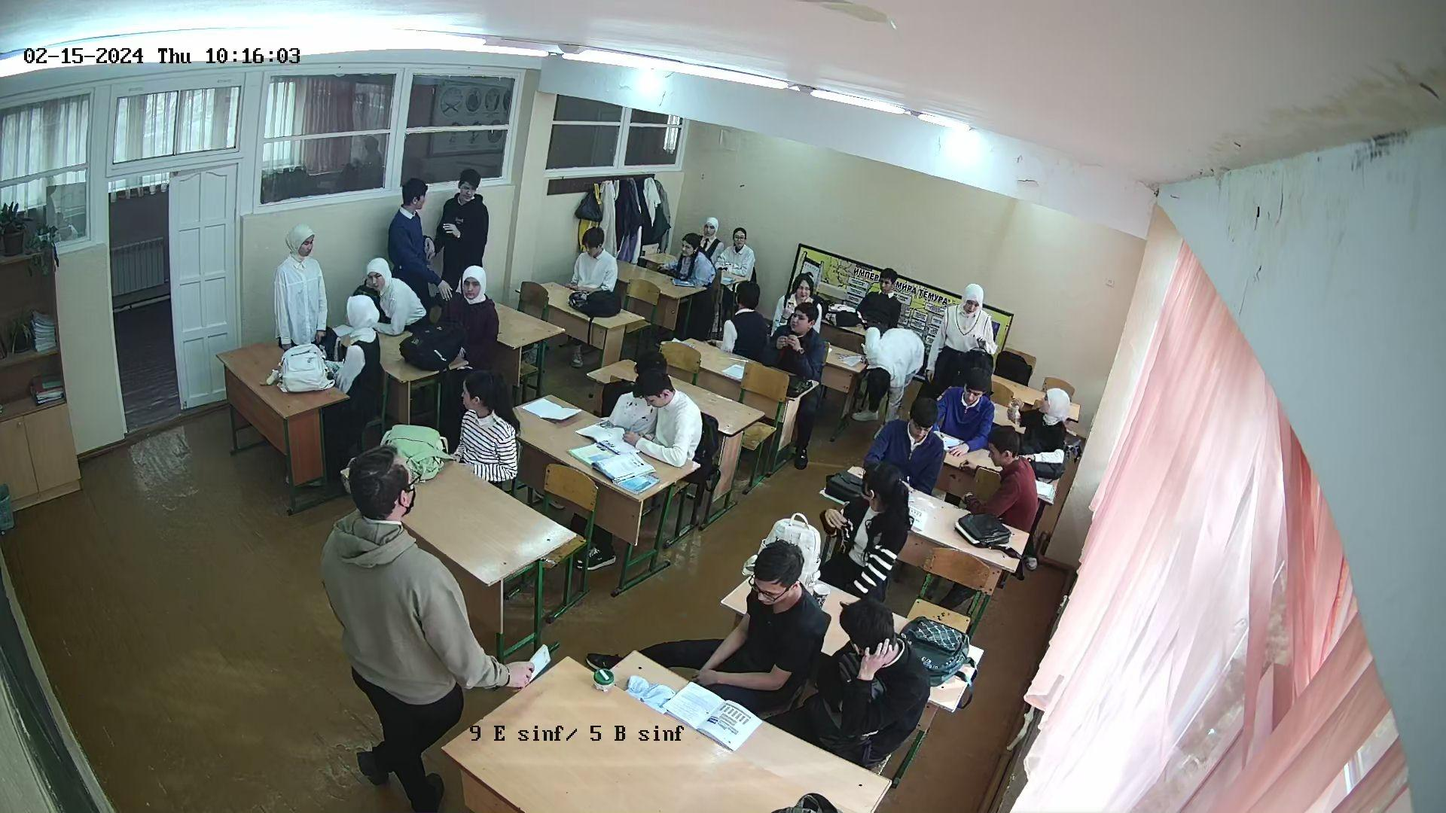Bend Over The Desk: (356, 257, 419, 329)
Hand Under Table: (688, 634, 781, 688)
Look Around: (843, 466, 915, 576), (833, 596, 910, 687), (973, 423, 1024, 511), (1026, 385, 1082, 456), (344, 296, 382, 379), (728, 282, 768, 356), (455, 368, 502, 415), (623, 339, 675, 378)
Normal: (569, 228, 626, 295), (771, 305, 822, 361), (674, 233, 703, 285)
Stand Up: (331, 441, 446, 805), (280, 224, 330, 348), (389, 183, 439, 277), (944, 281, 991, 374), (446, 171, 489, 265)
